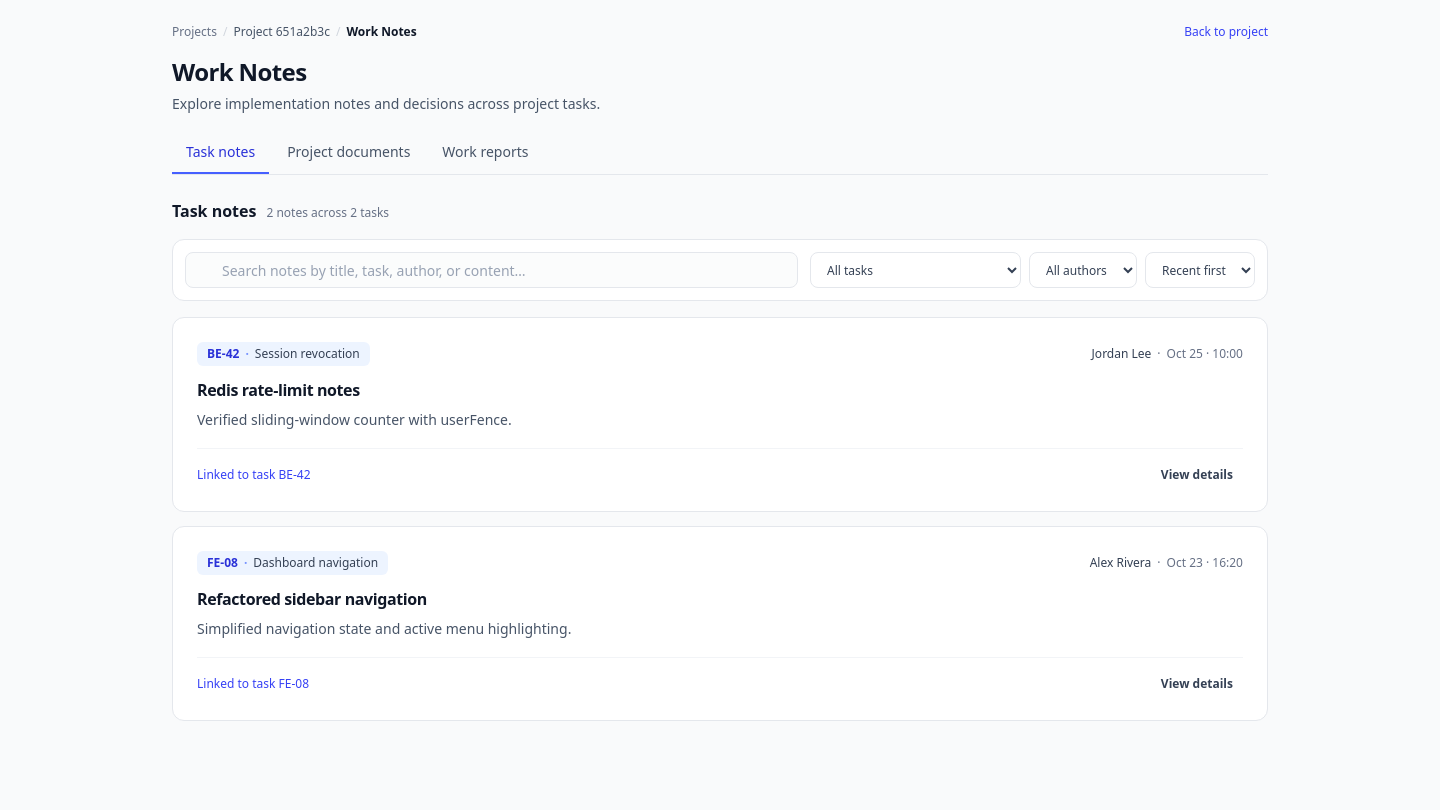
Test case: Project task notes › searches canonical v2 Task Notes without crashing when legacy v1 fields are omitted
Expected: the heading "Redis rate-limit notes" is shown, [197,379,360,401]
Type "userFence" into the search field. click: (492, 270)
box: [185,252,798,288]
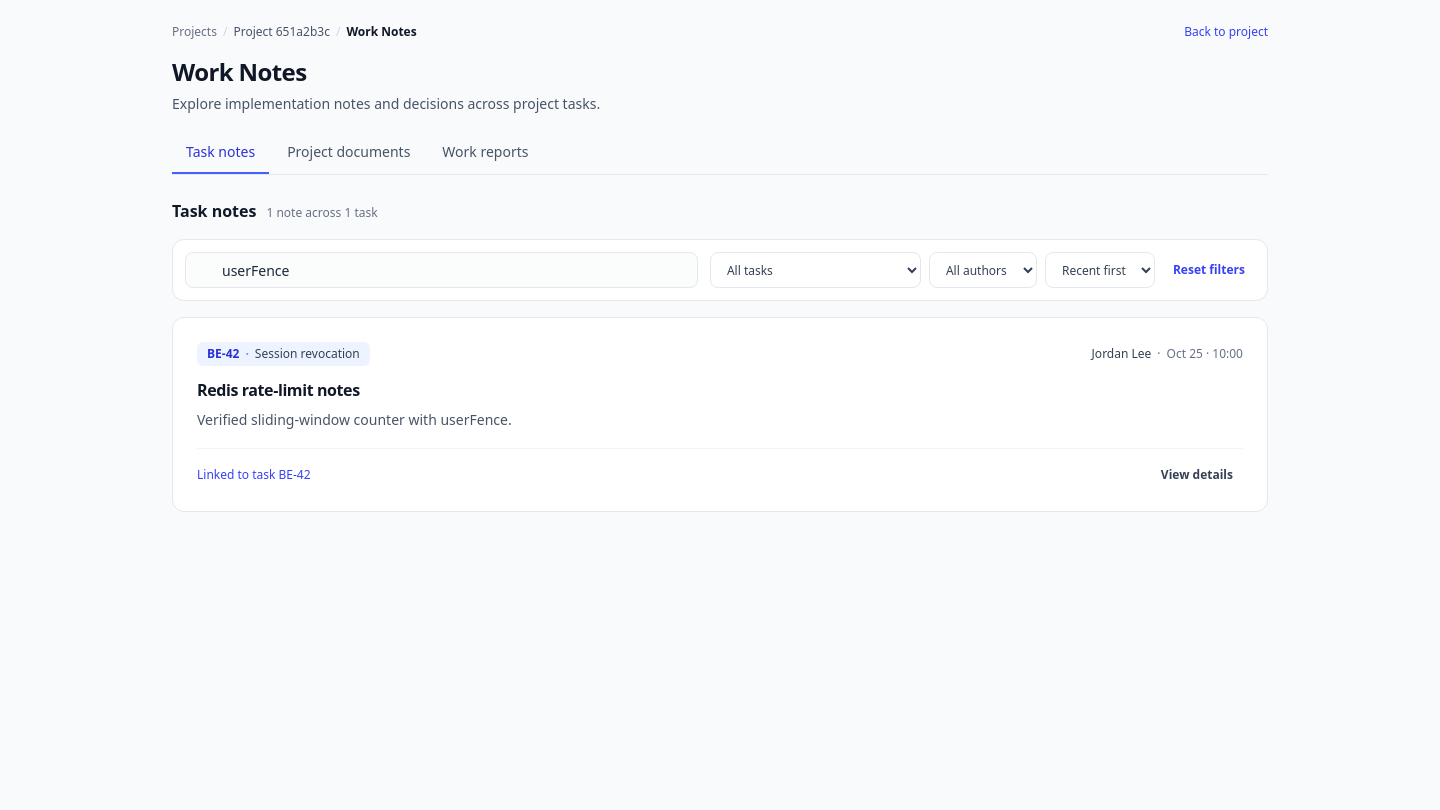
Expected: the heading "Redis rate-limit notes" is shown, [197,379,360,401]
Expected: the heading "Refactored sidebar navigation" is gone
Replace the text in the search field with "nonexistent-needle". click: (441, 270)
box: [185,252,698,288]
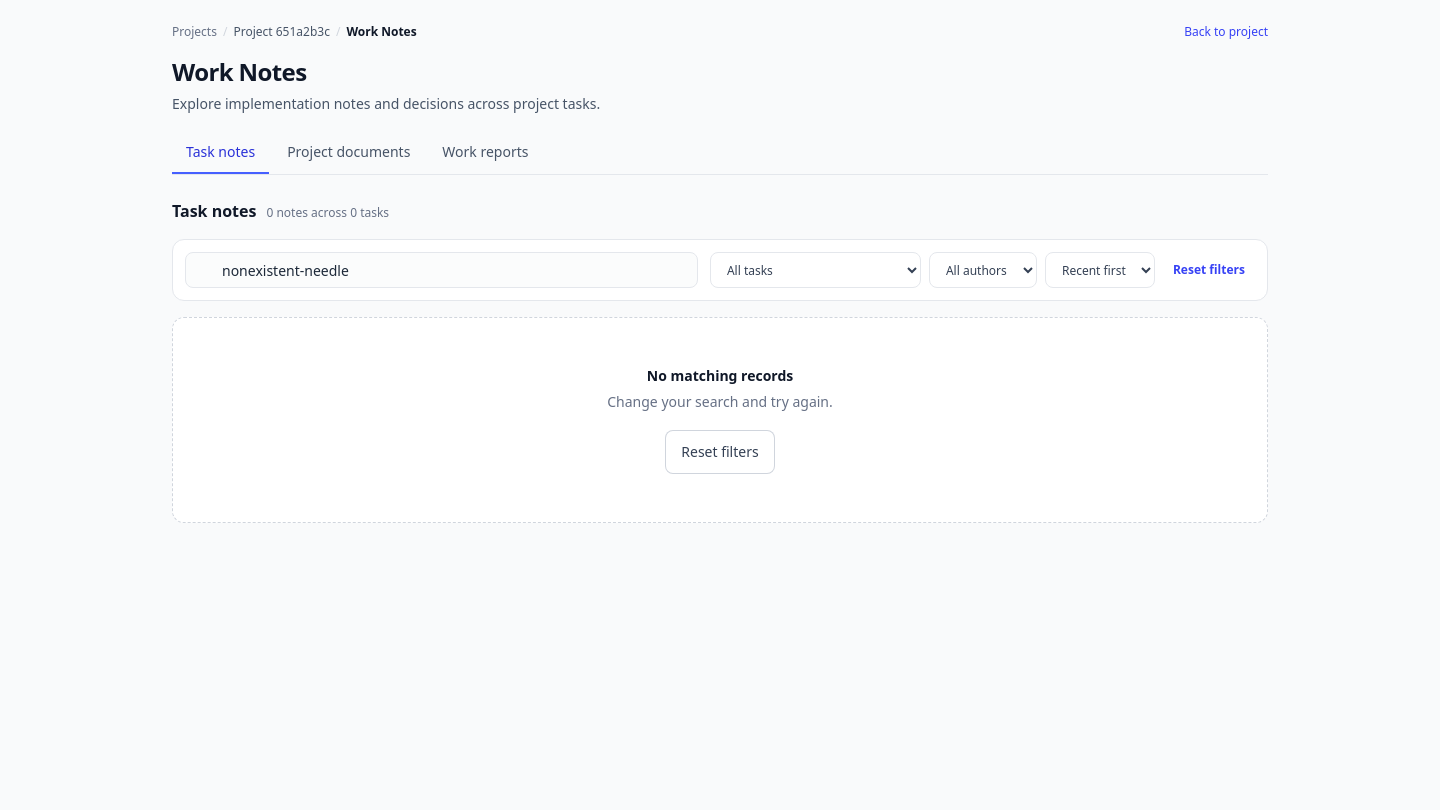
Expected: the heading "Redis rate-limit notes" is gone
